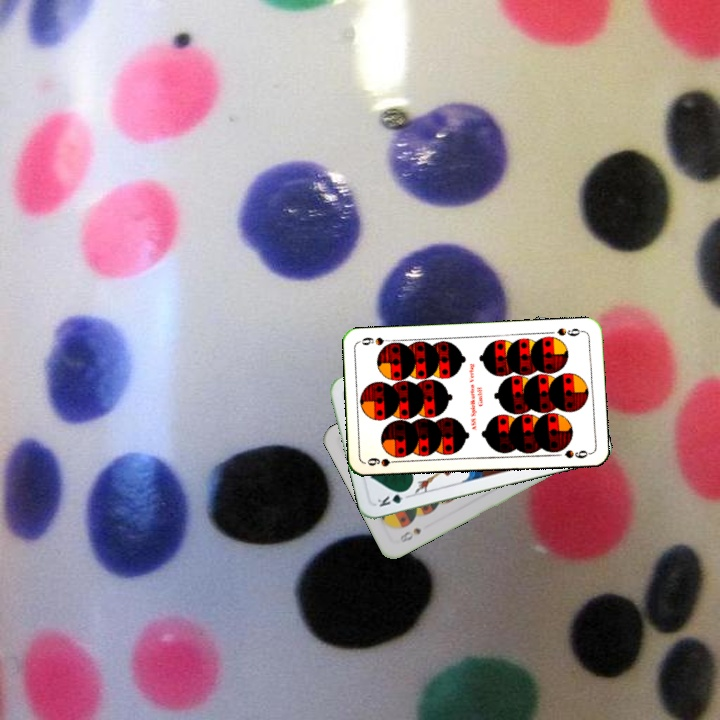GK: (373, 486, 413, 510)
S8: (396, 524, 423, 545)
S9: (363, 453, 404, 469), (553, 324, 586, 339)
